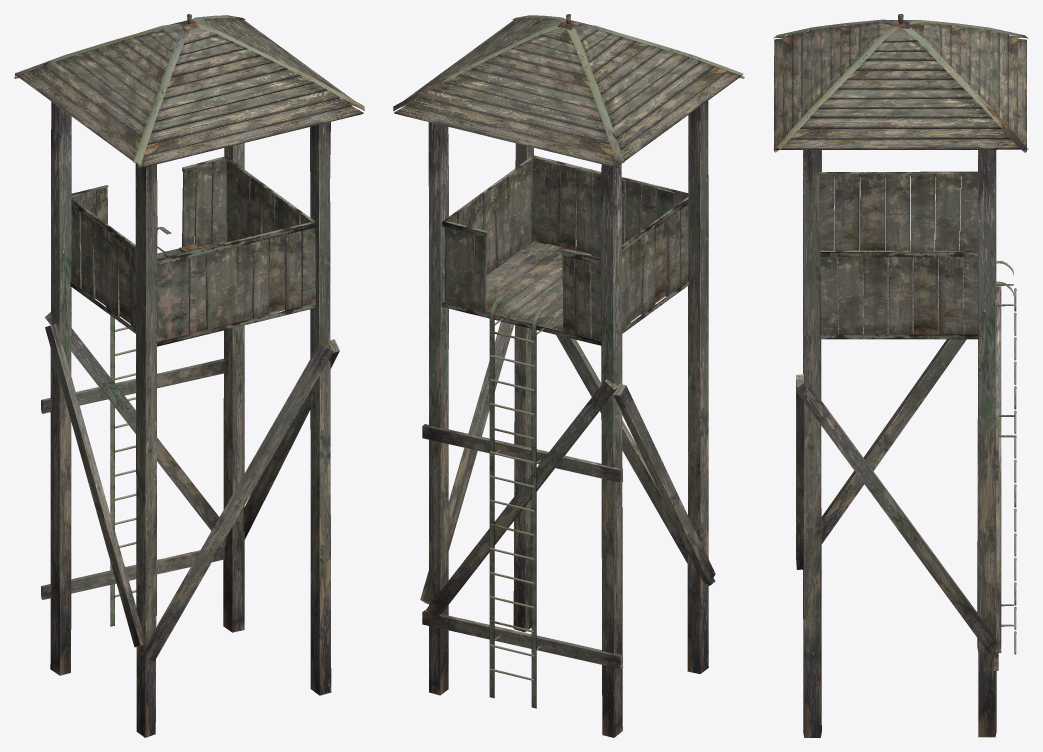
The model's file is Wooden_Tower.FBX.
3 views of the same model, side by side, from view 1: azimuth 30°, elevation 25°; view 2: azimuth 150°, elevation 25°; view 3: azimuth 270°, elevation 25° (orthographic).
Parts seen in each view (by area): view 1: Wooden_Tower; view 2: Wooden_Tower; view 3: Wooden_Tower.
Part boxes in pixels (box(x1,y1,x2,y2)): Wooden_Tower: box(14, 14, 364, 737); Wooden_Tower: box(393, 14, 744, 737); Wooden_Tower: box(773, 14, 1028, 737).
Bounding box in the file's own units: 204 × 192 × 561.
